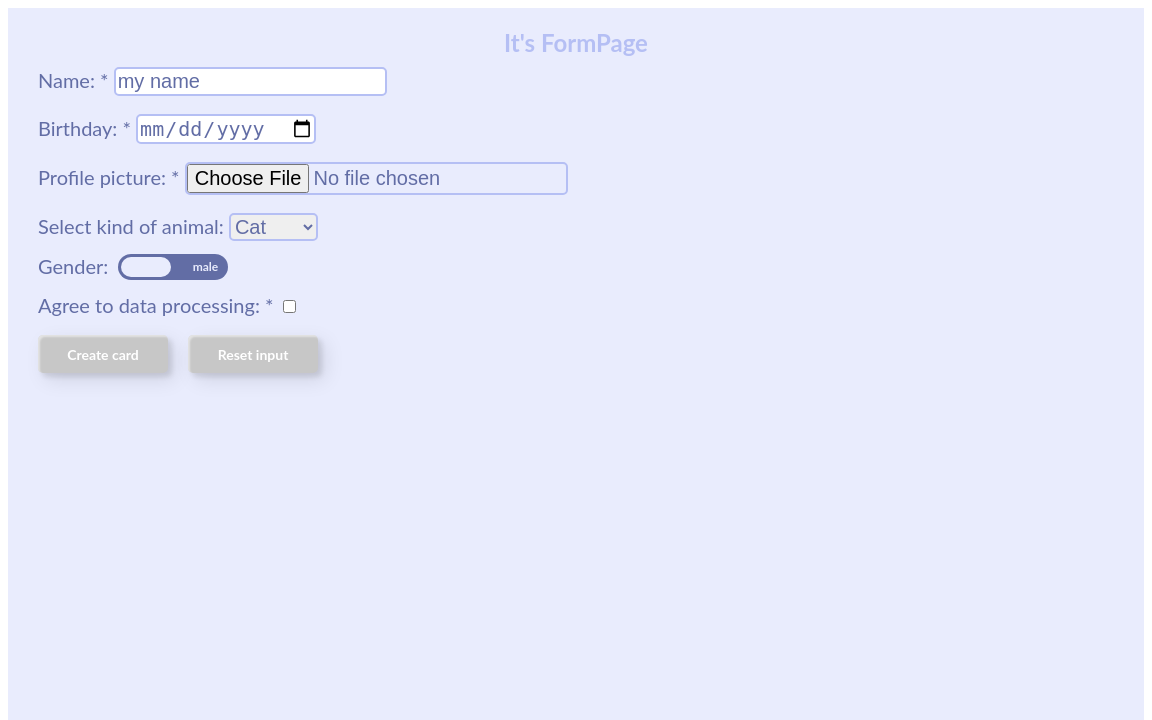
Test: <FormInput /> › with type "checkbox" › if no flag is not ckecked, then render an error message
Check: the text "You should agree" is not shown
Click the checkbox labelled "Agree to data processing: *" at (289, 306), box [283,300,296,313]
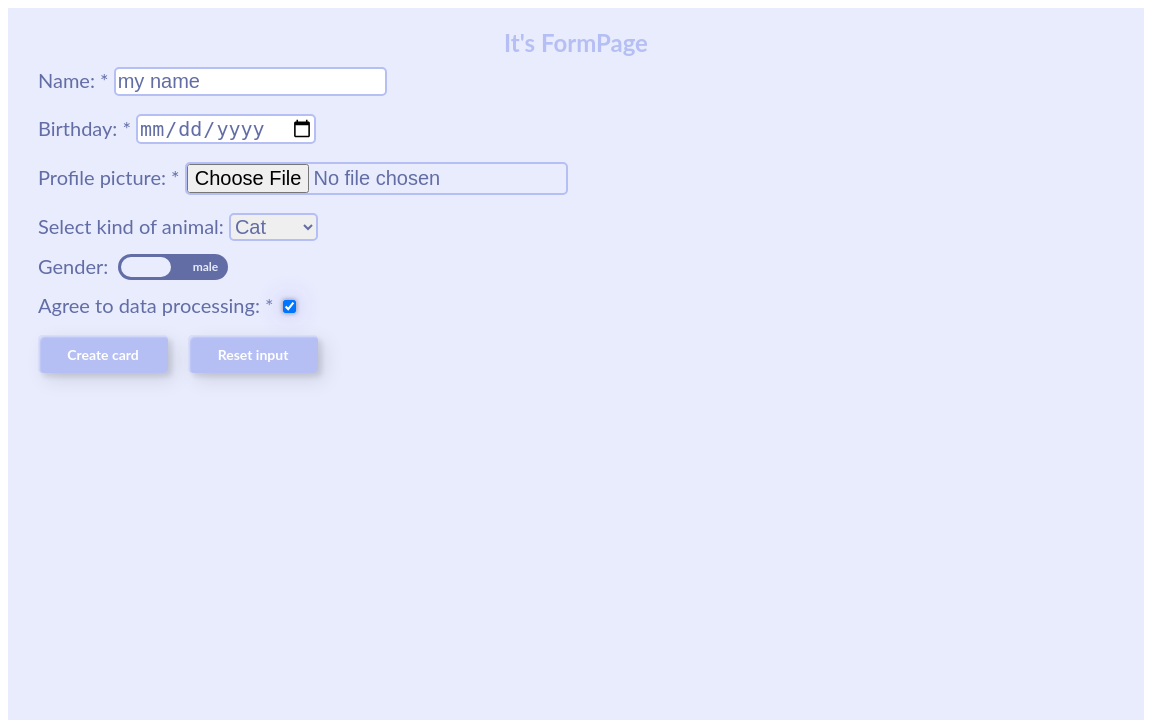
Check: the checkbox labelled "Agree to data processing: *" is checked
Click the checkbox labelled "Agree to data processing: *" at (289, 306), box [283,300,296,313]
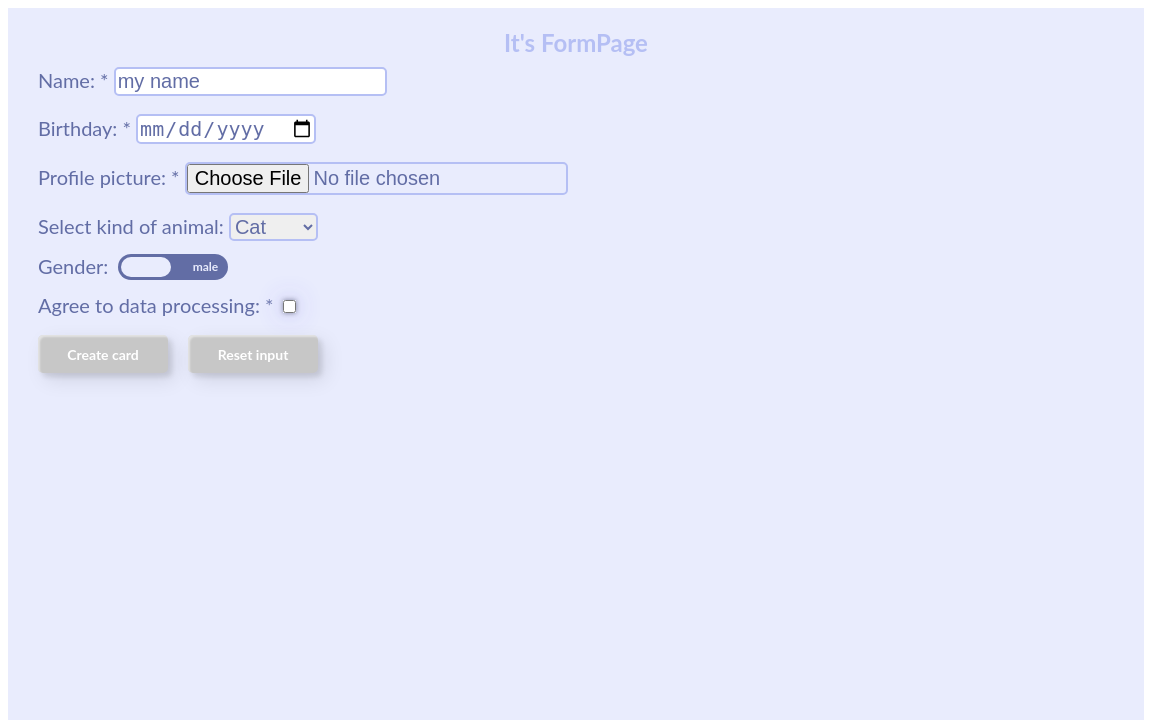
Check: the checkbox labelled "Agree to data processing: *" is not checked, box [283,300,296,313]
Press Enter
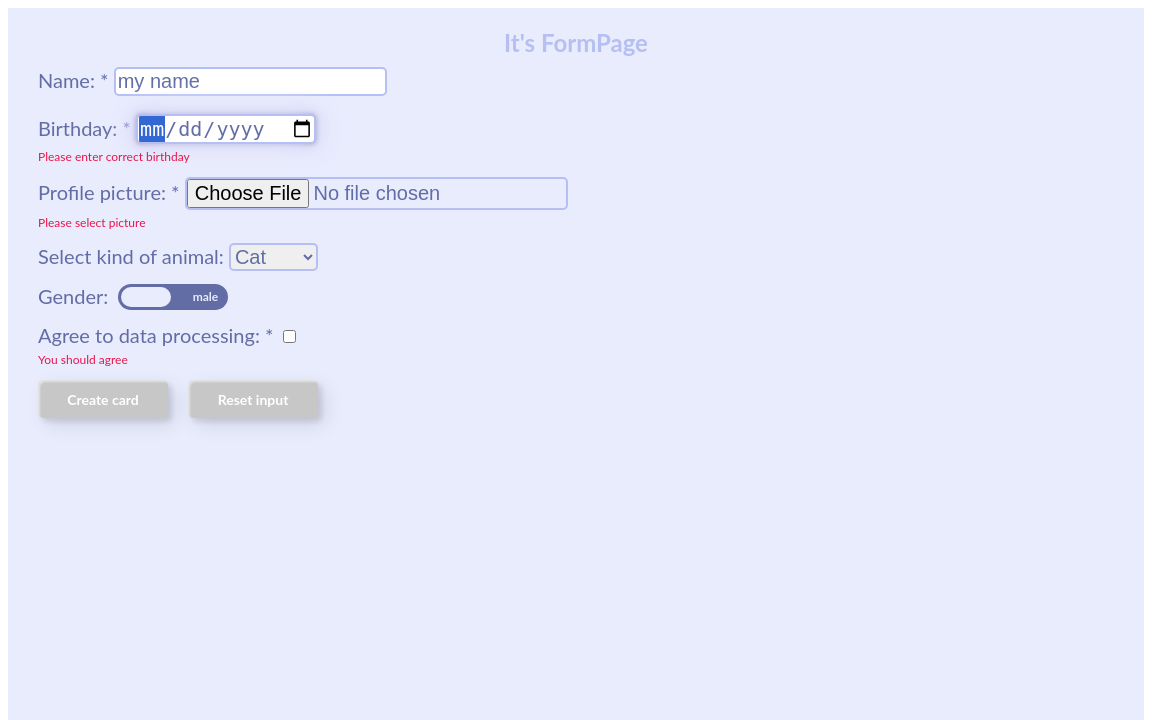
Check: the text "You should agree" is shown, box [38,352,128,367]
